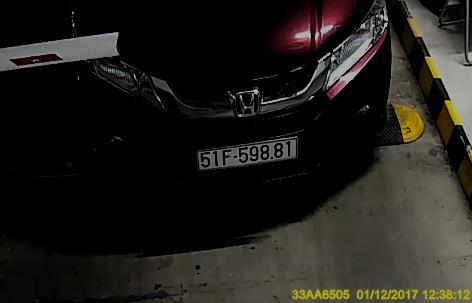License_Plate: (194, 137, 300, 167)
